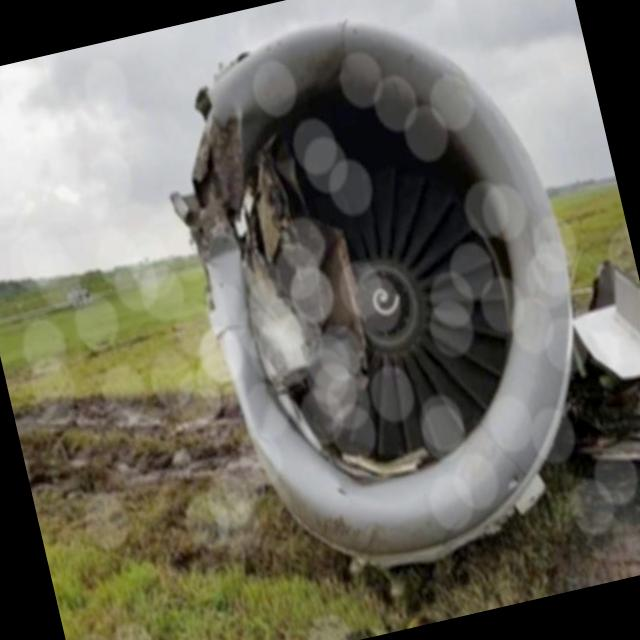dent: (224, 343, 306, 521), (202, 228, 250, 286)
